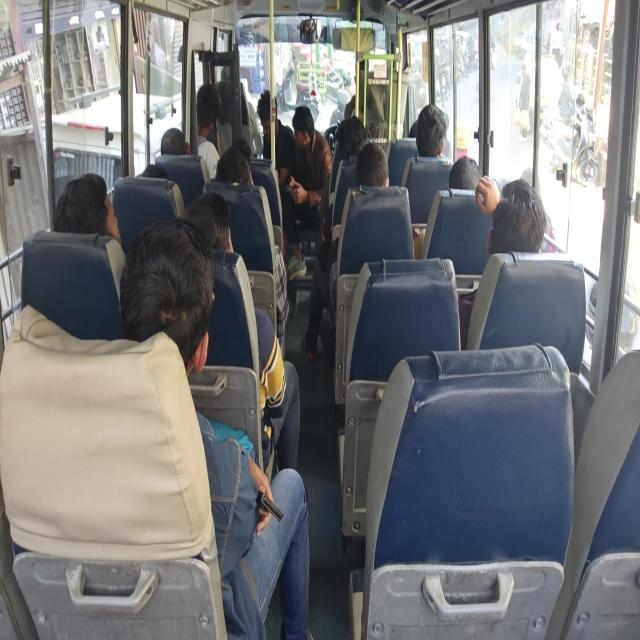person: (131, 216, 216, 361), (490, 182, 551, 273), (48, 160, 112, 244), (187, 197, 257, 264), (347, 140, 400, 215), (161, 121, 211, 176), (138, 151, 178, 218), (213, 152, 263, 201), (250, 80, 282, 140), (289, 101, 321, 161), (423, 102, 463, 147), (453, 155, 485, 204), (196, 82, 227, 128), (335, 111, 370, 150), (226, 134, 263, 168), (408, 106, 429, 139)
